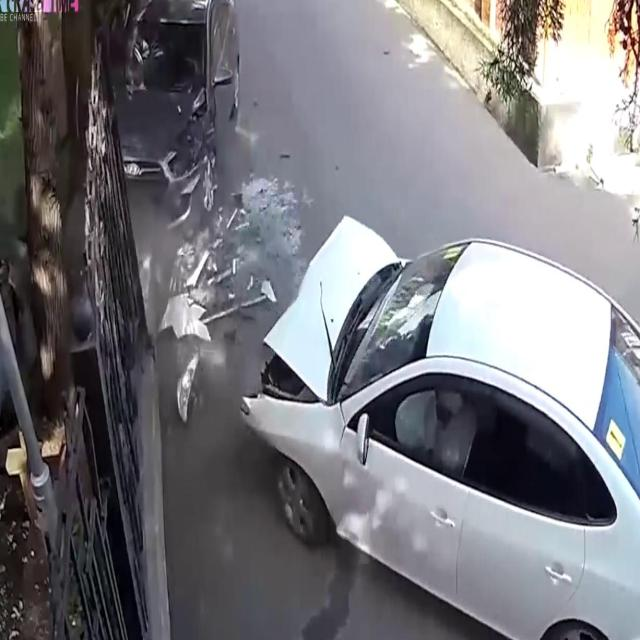accident: (227, 182, 640, 640), (120, 0, 240, 245)
